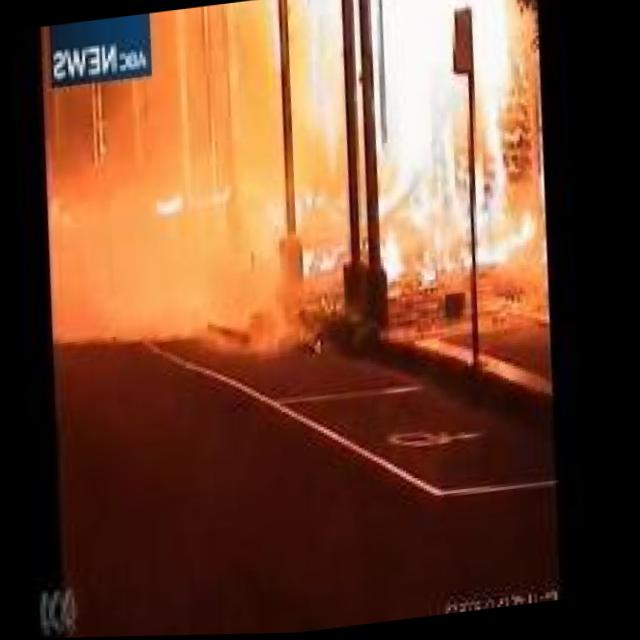fire: (264, 0, 558, 315), (148, 184, 202, 227)
